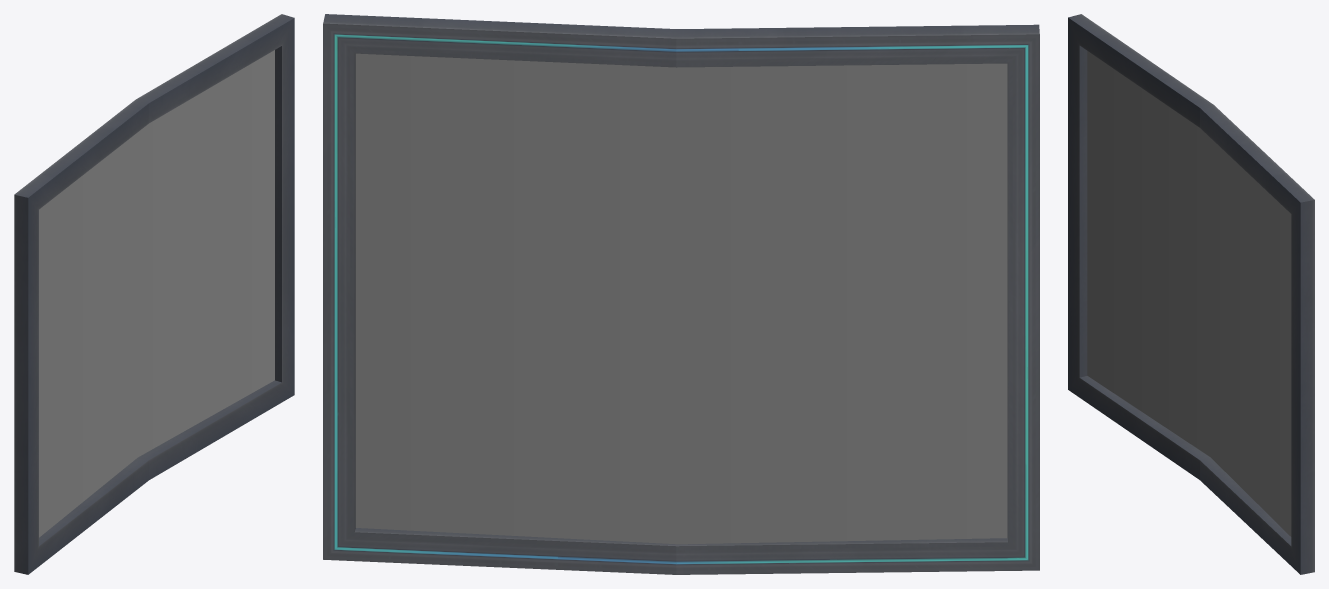
Rendered from mesh_1002_guangao_3.FBX.
The picture shows the model from 3 angles, left to right: view 1: azimuth 30°, elevation 25°; view 2: azimuth 150°, elevation 25°; view 3: azimuth 270°, elevation 25°; orthographic projection. The views are drawn at different scales.
Visible parts, largest first — view 1: mesh_1002_guangao_3b, mesh_1002_guangao_3; view 2: mesh_1002_guangao_3b, mesh_1002_guangao_3; view 3: mesh_1002_guangao_3b, mesh_1002_guangao_3.
Part boxes in pixels (left/top/right/bottom): mesh_1002_guangao_3b: left=39, top=50, right=274, bottom=537; mesh_1002_guangao_3: left=14, top=14, right=294, bottom=574; mesh_1002_guangao_3b: left=355, top=53, right=1007, bottom=544; mesh_1002_guangao_3: left=323, top=14, right=1039, bottom=574; mesh_1002_guangao_3b: left=1087, top=51, right=1291, bottom=536; mesh_1002_guangao_3: left=1068, top=14, right=1314, bottom=574.
Size of the model in its own units: 745 by 686 by 412.
Materials: 2 (1 with a texture image).
